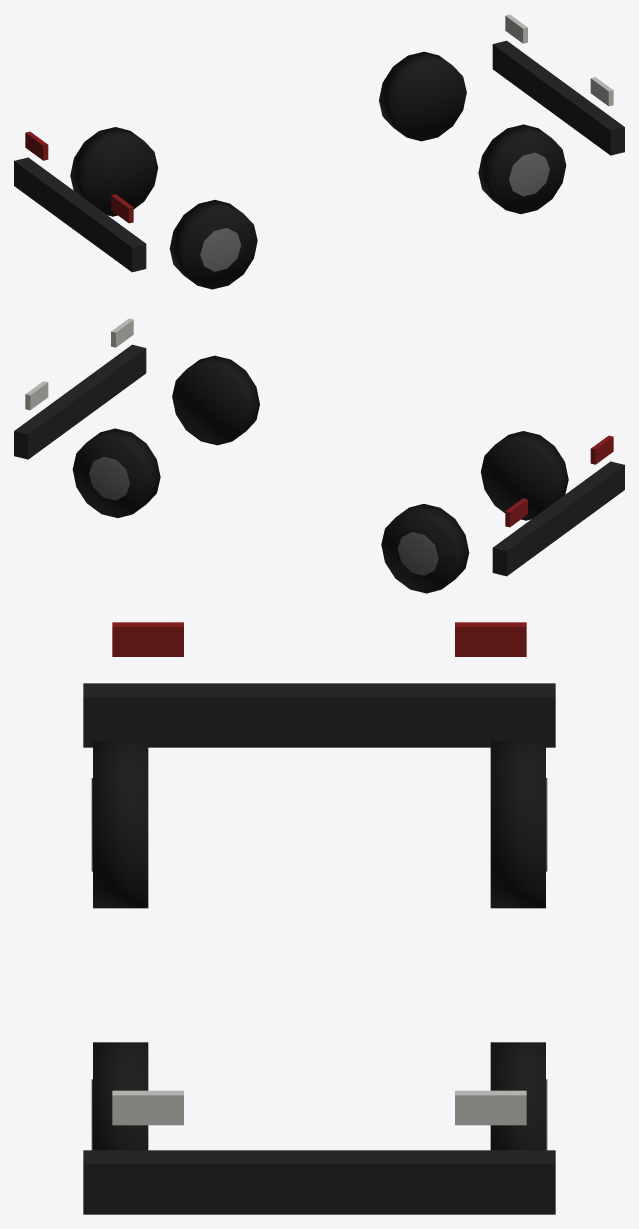
File: SM_Car_4_Wood.glb
The picture shows the model from 3 angles, top to bottom: view 1: azimuth 30°, elevation 25°; view 2: azimuth 150°, elevation 25°; view 3: azimuth 270°, elevation 25°; orthographic projection. The views are drawn at different scales.
Parts seen in each view (by area): view 1: SM_Car_4_Wood; view 2: SM_Car_4_Wood; view 3: SM_Car_4_Wood.
Boxes of the visible parts, box(x1,y1,x2,y2) form: SM_Car_4_Wood: box(14, 14, 624, 289); SM_Car_4_Wood: box(14, 318, 624, 593); SM_Car_4_Wood: box(83, 622, 555, 1214).
Size of the model in its own units: 4.12 by 0.7722 by 1.71.
